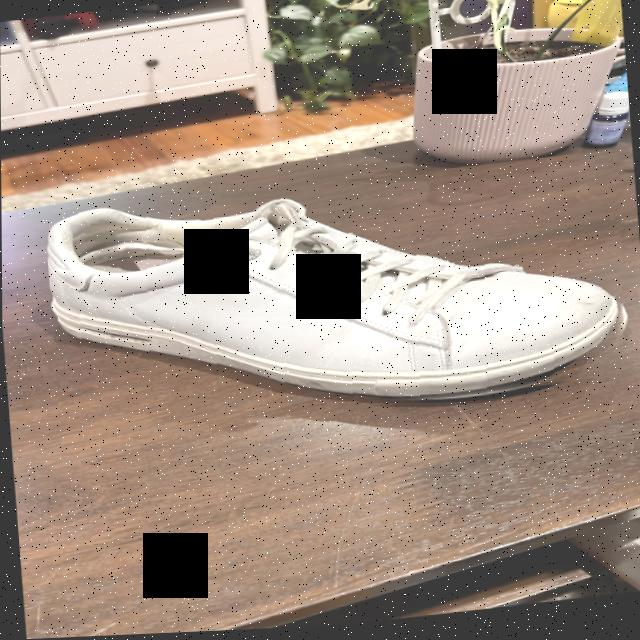shoe: (43, 154, 637, 448)
